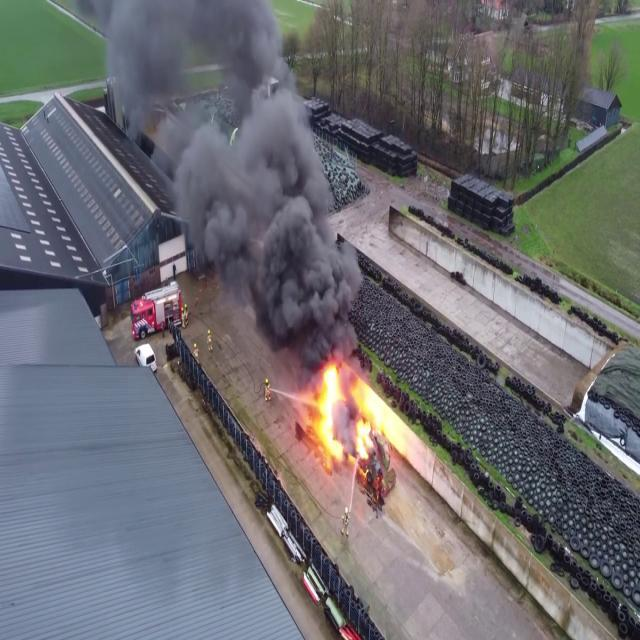Fire: (308, 354, 387, 466)
Smoke: (113, 1, 364, 347)
